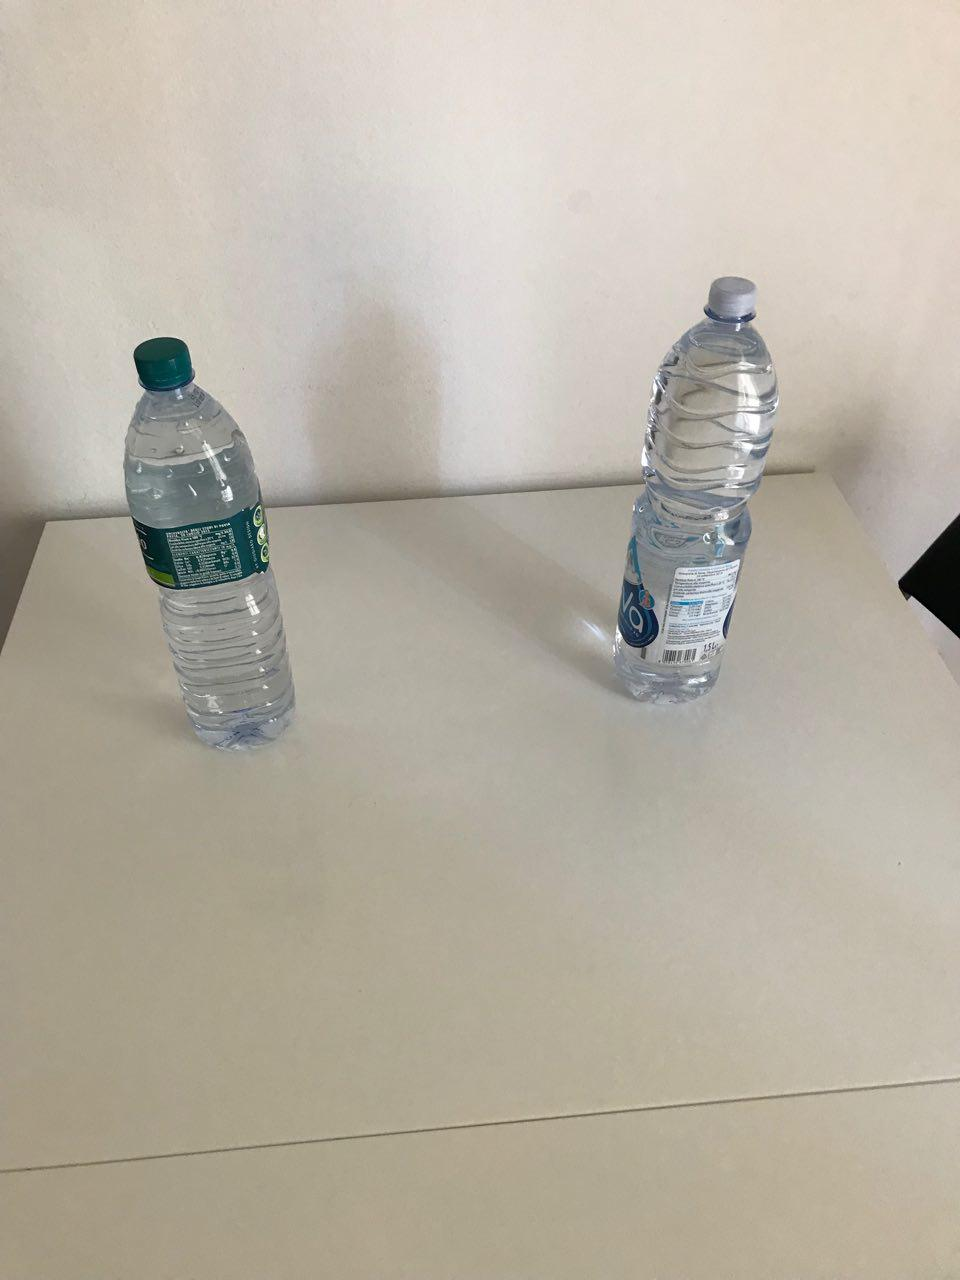san_bernardo: (122, 335, 296, 754)
